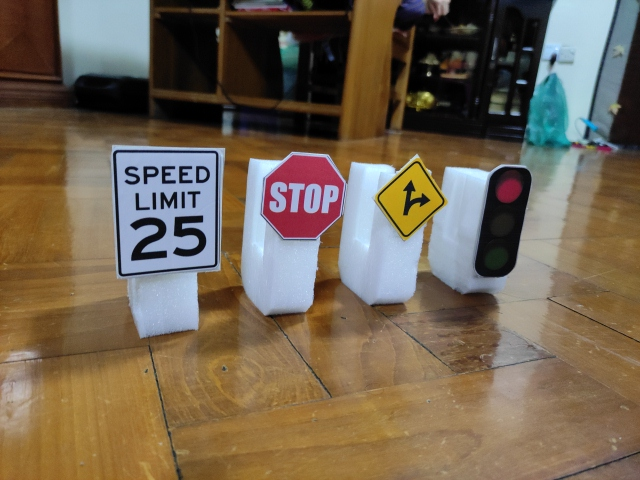Red Traffic Light: (475, 165, 532, 276)
Speed Limit 25: (111, 145, 222, 278)
Stop Sign: (260, 152, 346, 241)
Straight Or Right Sign: (375, 159, 447, 240)
